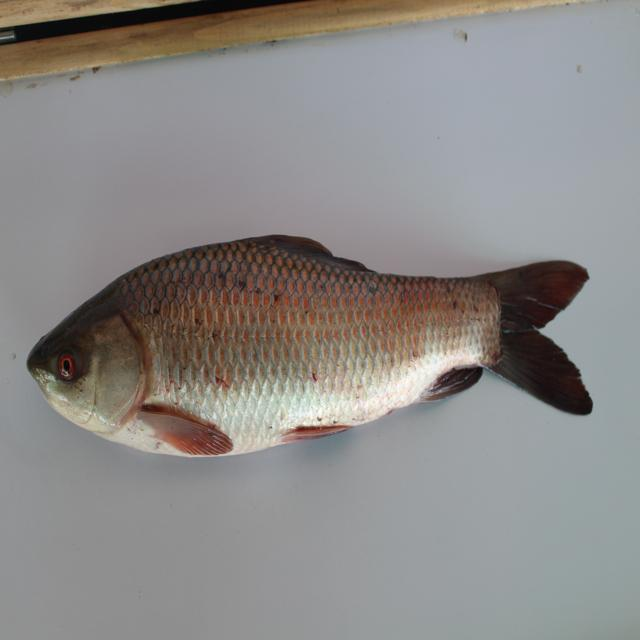Rohu: (23, 207, 602, 470)
